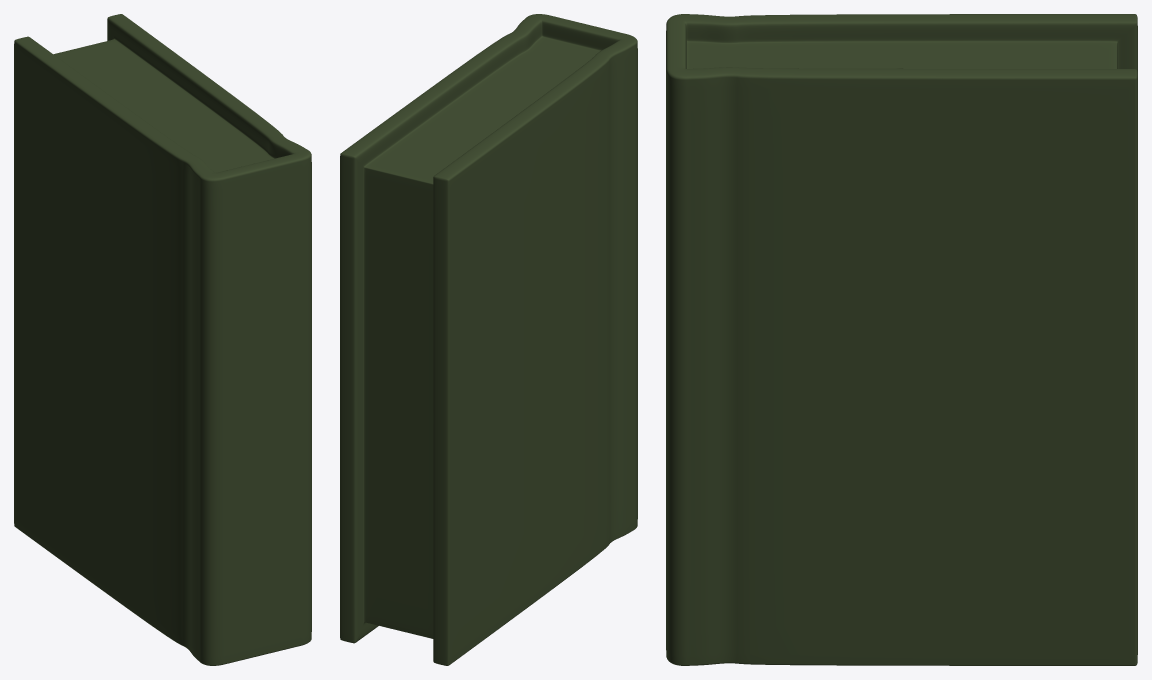
Rendered from bookGreen.fbx.
The picture shows the model from 3 angles, left to right: view 1: azimuth 30°, elevation 25°; view 2: azimuth 150°, elevation 25°; view 3: azimuth 270°, elevation 25°; orthographic projection. The views are drawn at different scales.
Parts seen in each view (by area): view 1: green; view 2: green; view 3: green.
Part boxes in pixels (x1=…): green: x1=14, y1=14, x2=311, y2=665; green: x1=340, y1=14, x2=637, y2=665; green: x1=666, y1=14, x2=1137, y2=665.
Bounding box in the file's own units: 7.22 × 30.78 × 22.29.
